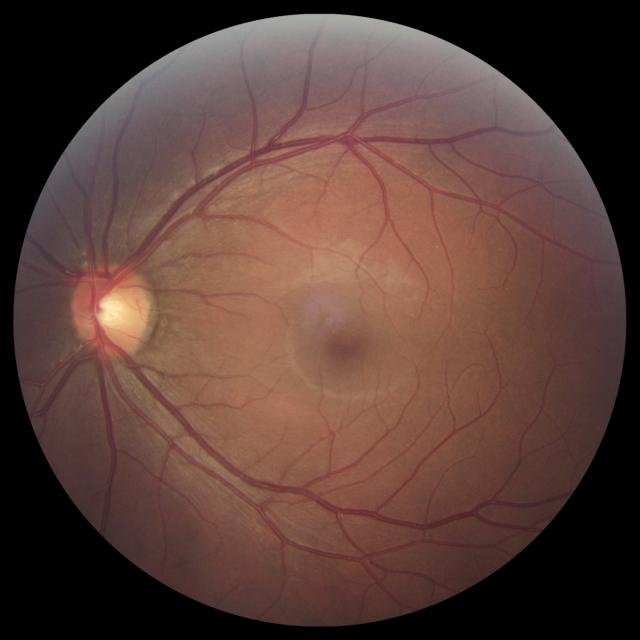OC: (95, 294, 125, 328)
OD: (71, 263, 152, 355)
